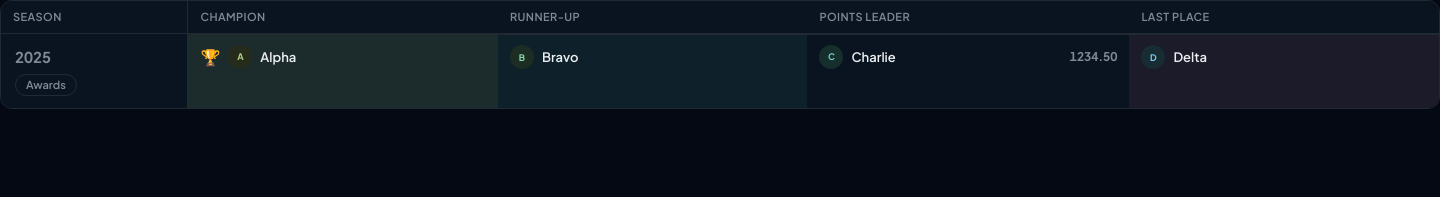
Test: past award winners (US4) › a response for another season (requestedSeason set) shows "not available" and none of its awards
Click the button "Awards" at x=46, y=85, box [15,74,77,96]
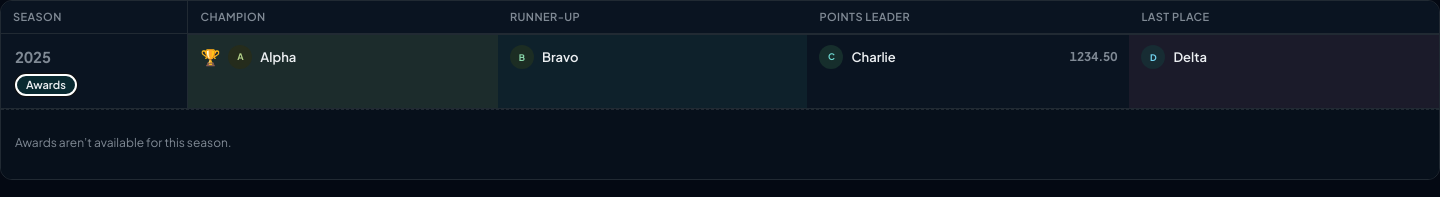
Result: the text "Awards aren’t available for this season." is shown at [15,135,231,150]
